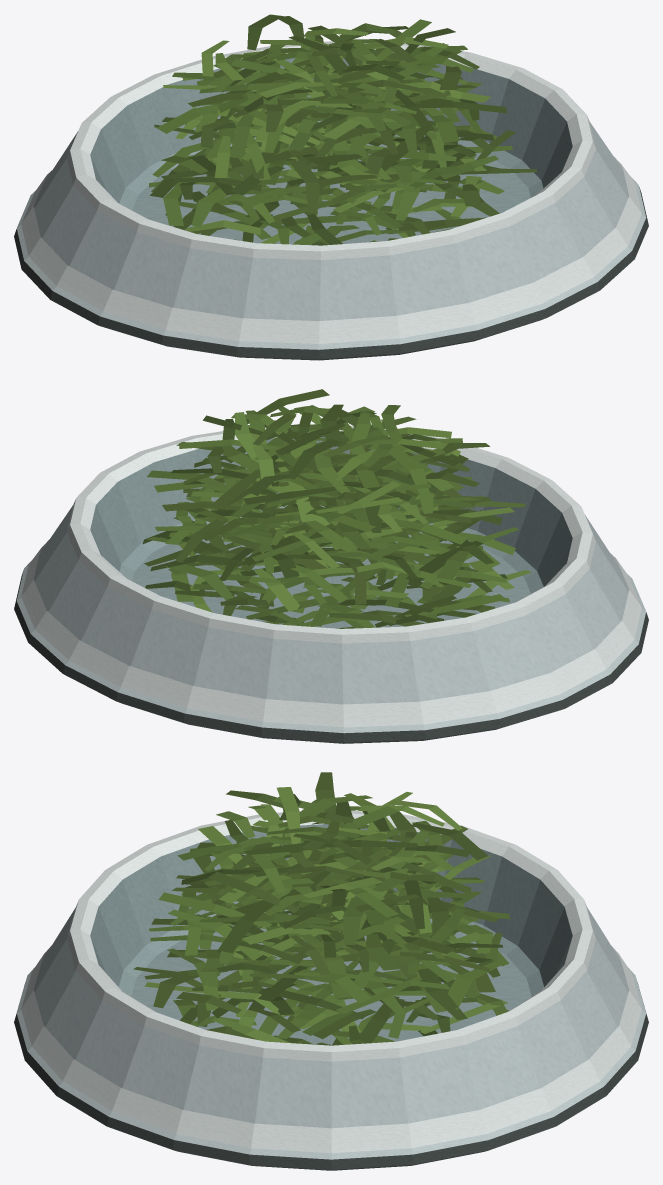
Rendered from food_bowl_forage.obj.
3 views of the same model, one above another, from view 1: azimuth 30°, elevation 25°; view 2: azimuth 150°, elevation 25°; view 3: azimuth 270°, elevation 25° (orthographic). The views are drawn at different scales.
Visible parts, largest first — view 1: food_bowl_forage; view 2: food_bowl_forage; view 3: food_bowl_forage.
Boxes of the visible parts, x1,y1,x2,y2 form: food_bowl_forage: (14, 14, 648, 360); food_bowl_forage: (14, 389, 648, 743); food_bowl_forage: (14, 772, 648, 1170).
Size of the model in its own units: 14.16 by 4.44 by 12.89.
Materials: 1 (1 with a texture image).
